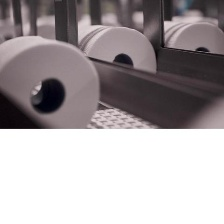tissue: (0, 30, 105, 128), (75, 19, 161, 77), (148, 15, 223, 59)
